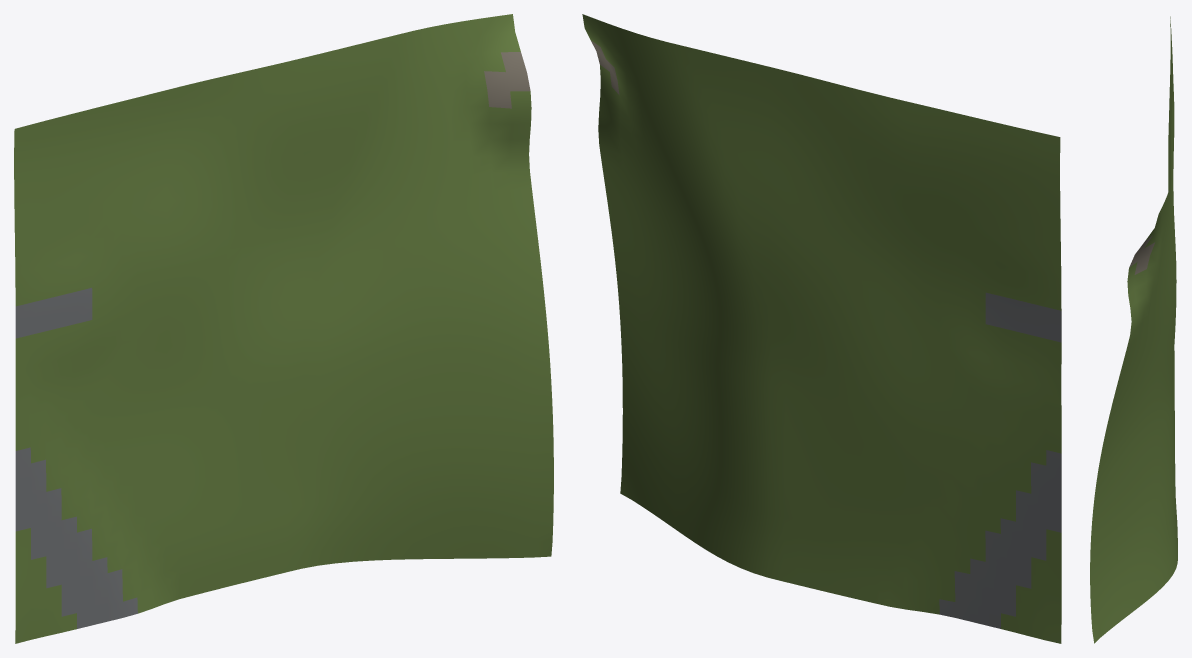
The model's file is island_terrain_15_07.obj.
The picture shows the model from 3 angles, left to right: view 1: azimuth 30°, elevation 25°; view 2: azimuth 150°, elevation 25°; view 3: azimuth 270°, elevation 25°; orthographic projection. The views are drawn at different scales.
Parts seen in each view (by area): view 1: island_terrain_15_07; view 2: island_terrain_15_07; view 3: island_terrain_15_07.
Part boxes in pixels (bbox=[...]): island_terrain_15_07: bbox=[14, 14, 553, 643]; island_terrain_15_07: bbox=[582, 14, 1061, 643]; island_terrain_15_07: bbox=[1090, 16, 1177, 643].
Bounding box in the file's own units: 256 × 256 × 47.46.
